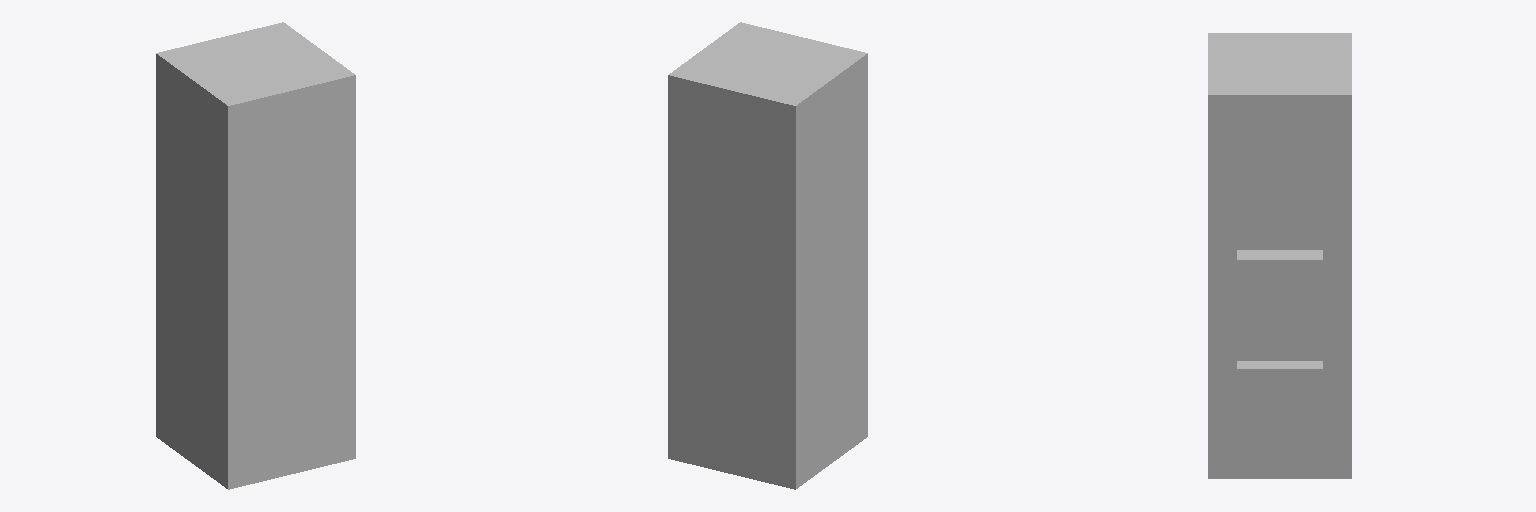
Rendered from building_2.obj.
3 renders of one model, left to right at view 1: azimuth 30°, elevation 25°; view 2: azimuth 150°, elevation 25°; view 3: azimuth 270°, elevation 25°, orthographic.
Parts seen in each view (by area): view 1: Cube.004_Cube.007; view 2: Cube.004_Cube.007; view 3: Cube.004_Cube.007.
Part boxes in pixels (x1,y1,x2,y2): Cube.004_Cube.007: (156,22,355,489); Cube.004_Cube.007: (668,22,867,489); Cube.004_Cube.007: (1208,33,1351,478).
Bounding box in the file's own units: 6.75 × 19.39 × 6.63.